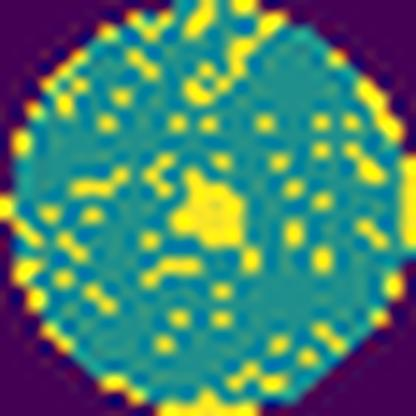Center: (163, 163, 252, 259)
